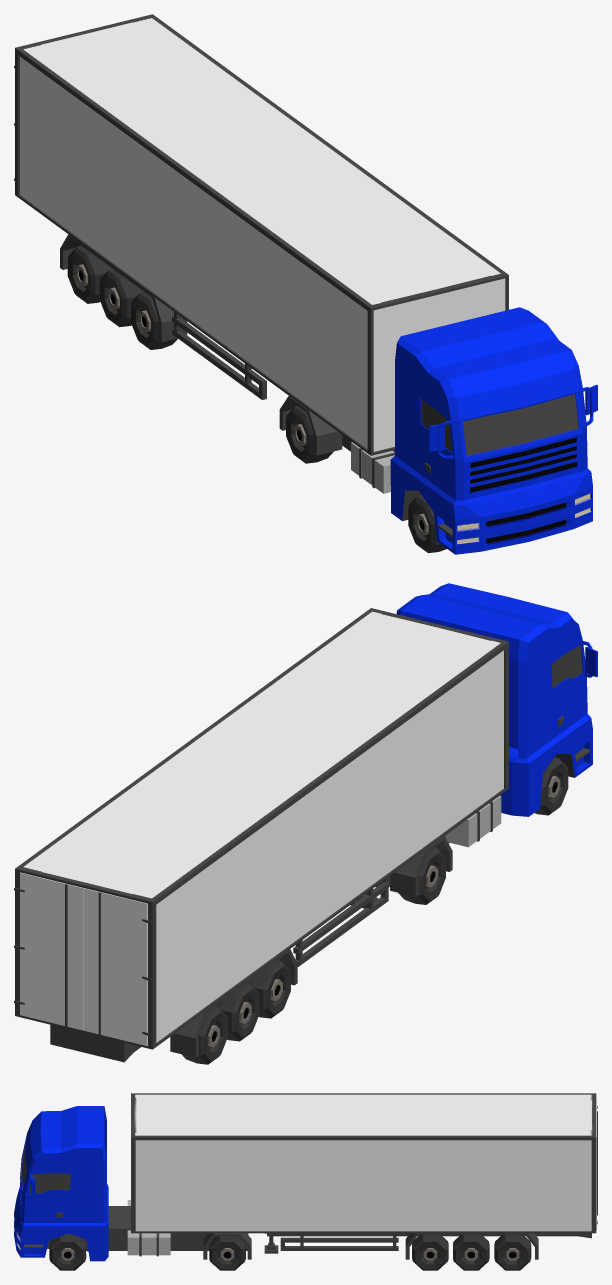
File: TruckTrailer.fbx
3 views of the same model, one above another, from view 1: azimuth 30°, elevation 25°; view 2: azimuth 150°, elevation 25°; view 3: azimuth 270°, elevation 25° (orthographic). The views are drawn at different scales.
Visible parts, largest first — view 1: trailer, Truck, trailerWheel_R3, trailerWheel_R2, trailerWheel_R1, WheelTruckBR, WheelTruckFR; view 2: trailer, Truck, doorTrailer_R, doorTrailer_L, trailerWheel_R2, trailerWheel_R1, trailerWheel_R3, WheelTruckBR, WheelTruckFR; view 3: trailer, Truck, trailerWheel_L3, trailerWheel__L2, WheelTruckFL, trailerWheel_L1, WheelTruckBL.
Boxes of the visible parts, left/top/right/bottom form: trailer: left=14, top=14, right=508, bottom=455; Truck: left=279, top=307, right=597, bottom=554; trailerWheel_R3: left=67, top=245, right=112, bottom=303; trailerWheel_R2: left=99, top=268, right=143, bottom=327; trailerWheel_R1: left=131, top=291, right=177, bottom=349; WheelTruckBR: left=286, top=406, right=333, bottom=463; WheelTruckFR: left=408, top=494, right=446, bottom=553; trailer: left=14, top=608, right=508, bottom=1062; Truck: left=375, top=583, right=597, bottom=896; doorTrailer_R: left=83, top=888, right=147, bottom=1045; doorTrailer_L: left=17, top=872, right=83, bottom=1030; trailerWheel_R2: left=215, top=983, right=259, bottom=1041; trailerWheel_R1: left=247, top=960, right=290, bottom=1018; trailerWheel_R3: left=182, top=1006, right=227, bottom=1064; WheelTruckBR: left=398, top=847, right=445, bottom=904; WheelTruckFR: left=534, top=757, right=568, bottom=815; trailer: left=131, top=1093, right=597, bottom=1259; Truck: left=14, top=1106, right=251, bottom=1261; trailerWheel_L3: left=494, top=1235, right=531, bottom=1270; trailerWheel__L2: left=453, top=1235, right=489, bottom=1270; WheelTruckFL: left=49, top=1233, right=86, bottom=1270; trailerWheel_L1: left=412, top=1235, right=448, bottom=1270; WheelTruckBL: left=209, top=1236, right=245, bottom=1270.
Size of the model in its own units: 293 by 345 by 1348.
